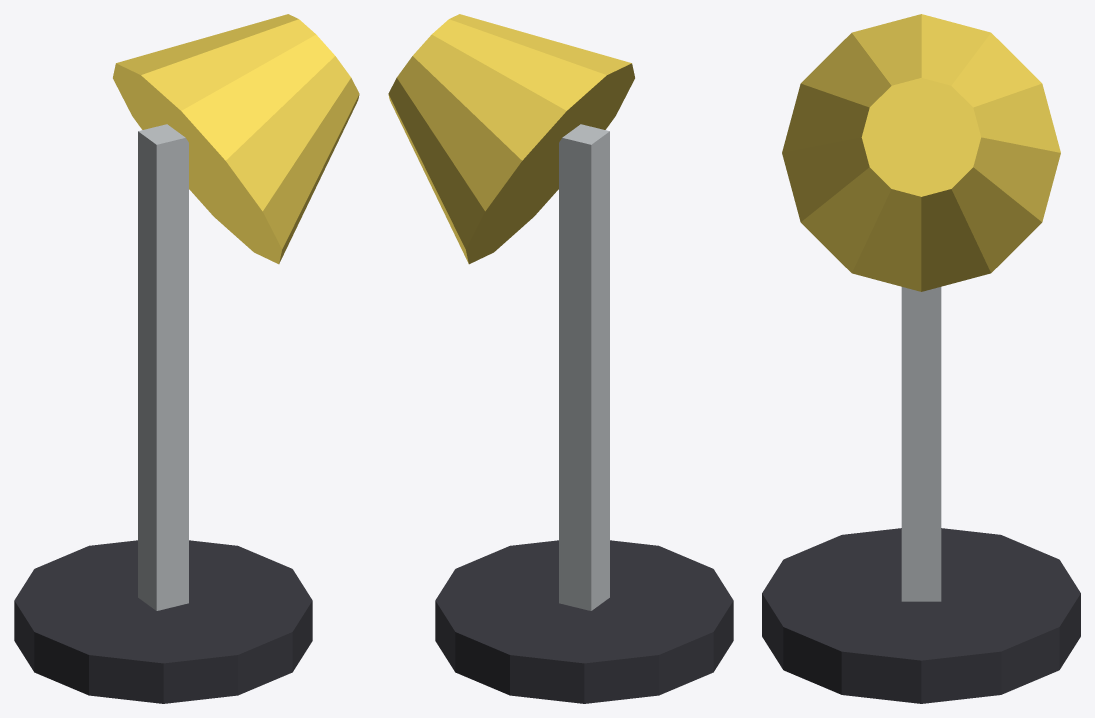
Rendered from sm_product_desk_lamp.glb.
The picture shows the model from 3 angles, left to right: view 1: azimuth 30°, elevation 25°; view 2: azimuth 150°, elevation 25°; view 3: azimuth 270°, elevation 25°; orthographic projection. The views are drawn at different scales.
Parts seen in each view (by area): view 1: desk_lamp_0, desk_lamp_2, desk_lamp_1; view 2: desk_lamp_0, desk_lamp_2, desk_lamp_1; view 3: desk_lamp_2, desk_lamp_0, desk_lamp_1.
Boxes of the visible parts, <box> form: desk_lamp_0: <box>14,540,312,703</box>; desk_lamp_2: <box>113,14,359,264</box>; desk_lamp_1: <box>138,124,188,610</box>; desk_lamp_0: <box>435,540,733,703</box>; desk_lamp_2: <box>388,14,634,264</box>; desk_lamp_1: <box>559,124,609,610</box>; desk_lamp_2: <box>782,14,1060,291</box>; desk_lamp_0: <box>762,528,1080,703</box>; desk_lamp_1: <box>901,287,941,601</box>.
Size of what is drawn, in the model's own units: 0.194 by 0.3485 by 0.16.
